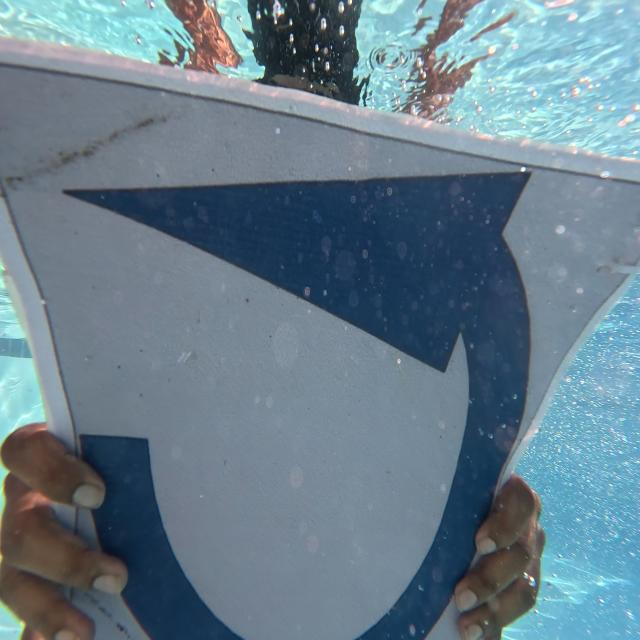blue_side: (2, 47, 640, 640)
